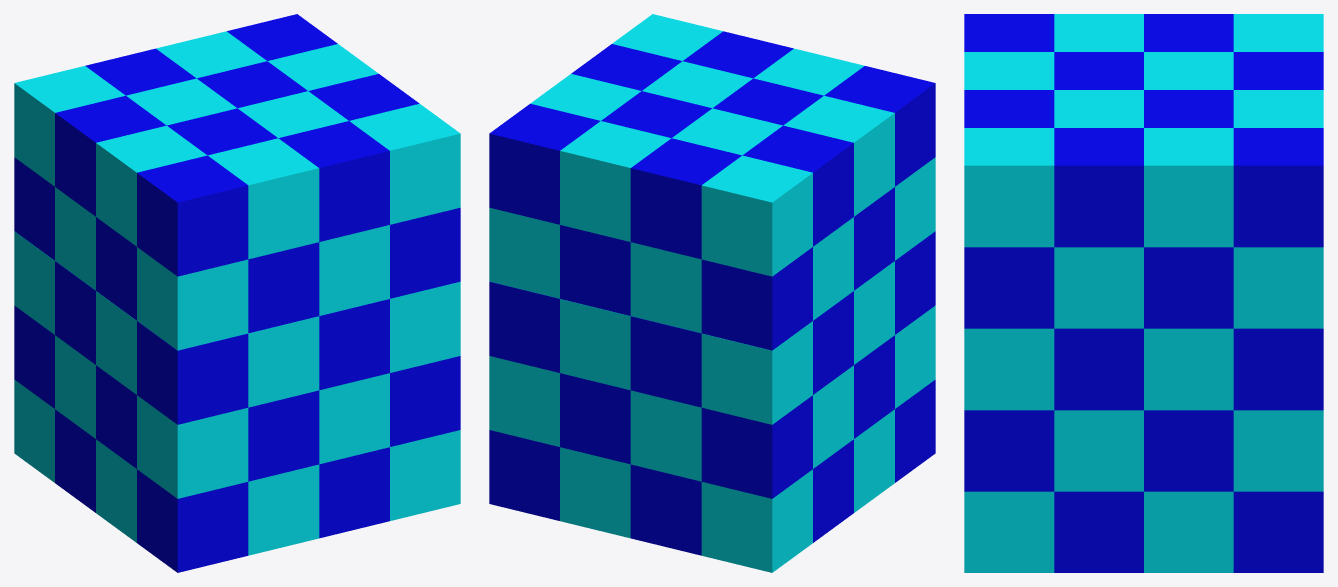
Rendered from ejercicio5.glb.
3 views of the same model, side by side, from view 1: azimuth 30°, elevation 25°; view 2: azimuth 150°, elevation 25°; view 3: azimuth 270°, elevation 25° (orthographic). The views are drawn at different scales.
Visible parts, largest first — view 1: Box125, Box105, Box115, Box095, Box085, Box124, Box121, Box122, Box065, Box120, Box075, Box104 (+32 smaller); view 2: Box065, Box035, Box050, Box020, Box005, Box064, Box061, Box062, Box125, Box075, Box120, Box034 (+32 smaller); view 3: Box062, Box122, Box072, Box117, Box032, Box102, Box042, Box097, Box017, Box047, Box092, Box112 (+20 smaller).
Part boxes in pixels (left/top/right/bottom): Box125: left=137, top=155, right=248, bottom=276; Box105: left=137, top=321, right=248, bottom=424; Box115: left=137, top=247, right=248, bottom=350; Box095: left=137, top=395, right=248, bottom=498; Box085: left=137, top=469, right=248, bottom=572; Box124: left=208, top=138, right=319, bottom=259; Box121: left=278, top=121, right=389, bottom=241; Box122: left=349, top=103, right=460, bottom=224; Box065: left=14, top=66, right=125, bottom=186; Box120: left=96, top=125, right=207, bottom=246; Box075: left=55, top=95, right=166, bottom=216; Box104: left=248, top=316, right=319, bottom=407; Box065: left=701, top=155, right=812, bottom=276; Box035: left=701, top=321, right=812, bottom=424; Box050: left=701, top=247, right=812, bottom=350; Box020: left=701, top=395, right=812, bottom=498; Box005: left=701, top=469, right=812, bottom=572; Box064: left=630, top=138, right=741, bottom=259; Box061: left=560, top=121, right=671, bottom=241; Box062: left=489, top=103, right=600, bottom=224; Box125: left=824, top=66, right=935, bottom=186; Box075: left=742, top=125, right=853, bottom=246; Box120: left=783, top=95, right=894, bottom=216; Box034: left=630, top=316, right=701, bottom=407; Box062: left=1233, top=128, right=1323, bottom=247; Box122: left=964, top=128, right=1054, bottom=247; Box072: left=1144, top=128, right=1233, bottom=247; Box117: left=1054, top=128, right=1143, bottom=247; Box032: left=1233, top=328, right=1323, bottom=410; Box102: left=964, top=328, right=1054, bottom=410; Box042: left=1144, top=328, right=1233, bottom=410; Box097: left=1054, top=328, right=1143, bottom=410; Box017: left=1233, top=410, right=1323, bottom=491; Box047: left=1233, top=247, right=1323, bottom=328; Box092: left=964, top=410, right=1054, bottom=491; Box112: left=964, top=247, right=1054, bottom=328.
Size of the model in its own units: 0.2032 by 0.2541 by 0.2032.
